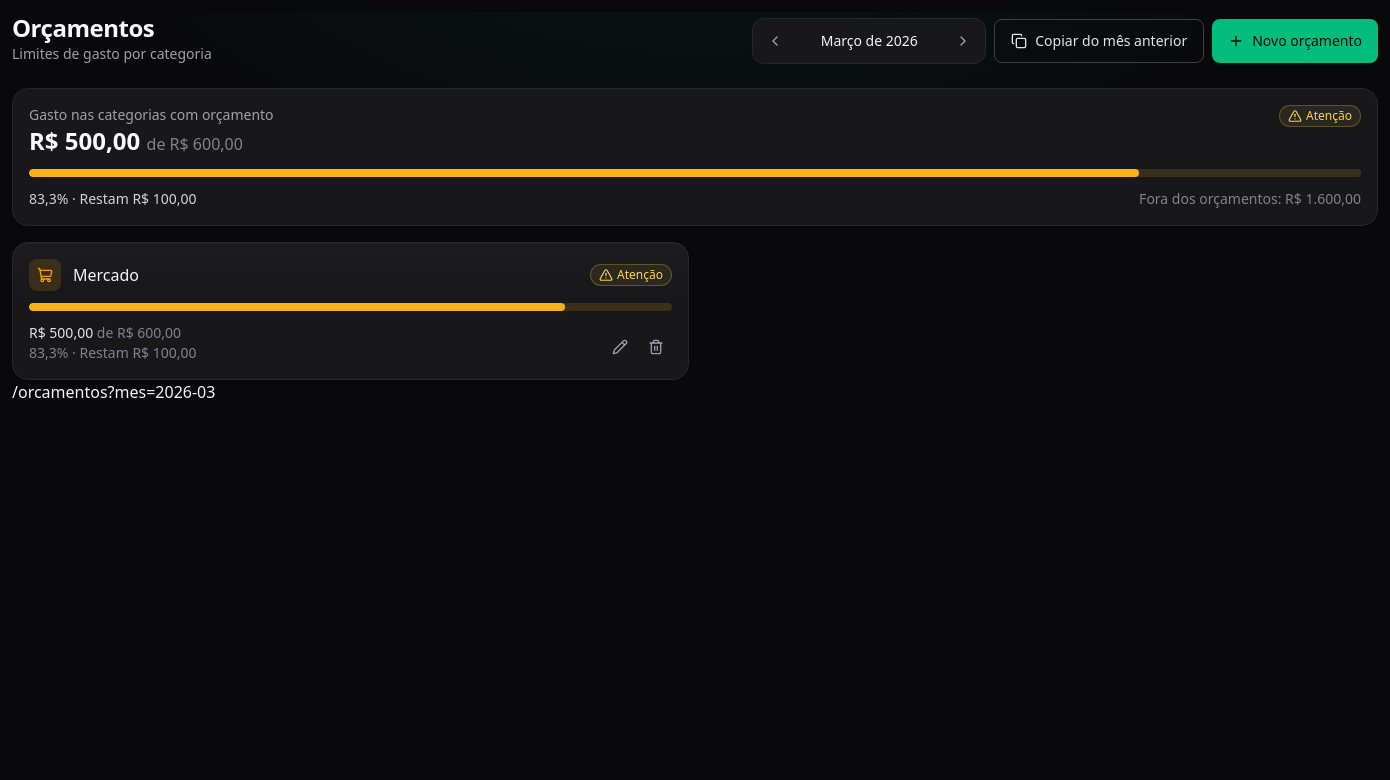
Test: BudgetsPage › copies the previous month budgets
Expected: the element "Mercado" is shown, [12, 242, 689, 380]
Click the button "Copiar do mês anterior".
click(1099, 41)  # box [994, 19, 1204, 63]
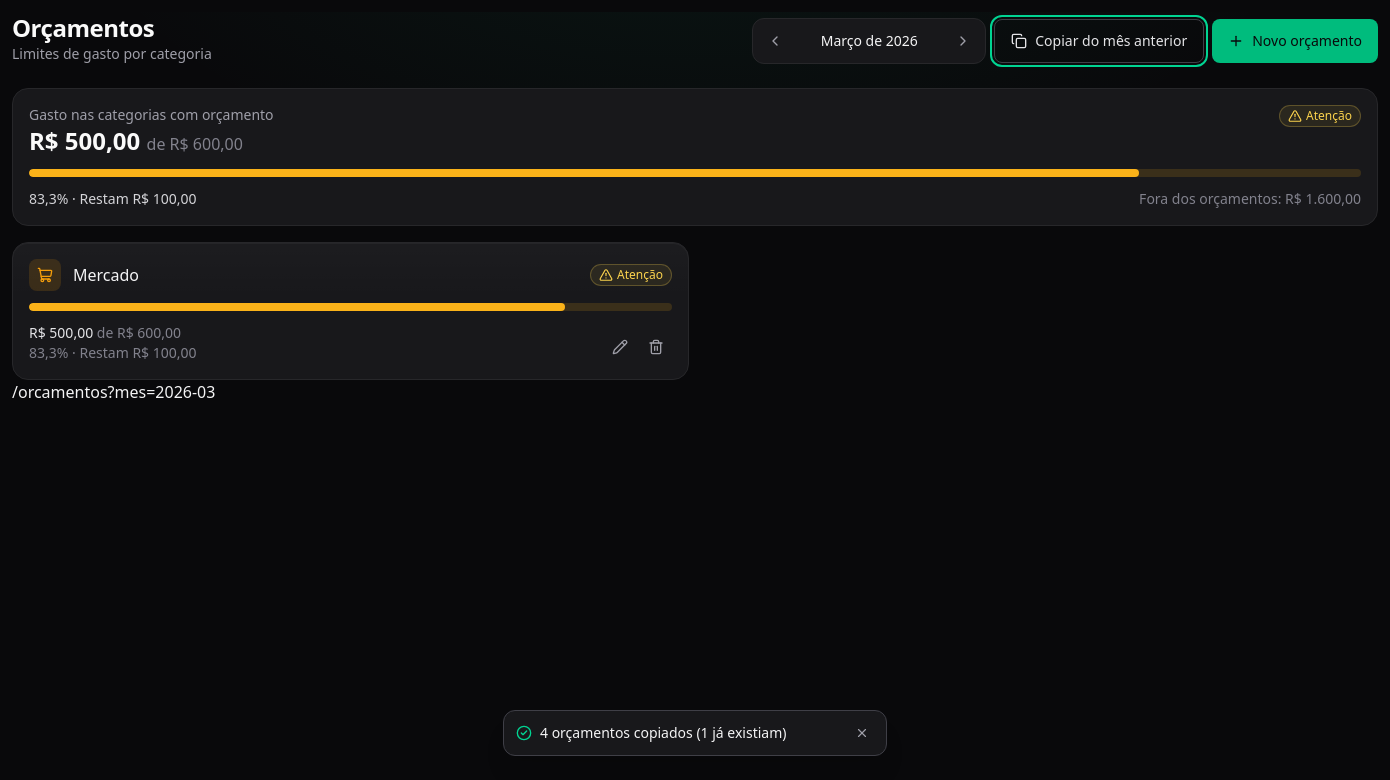
Expected: the text "4 orçamentos copiados (1 já existiam)" is shown, [540, 723, 786, 742]
